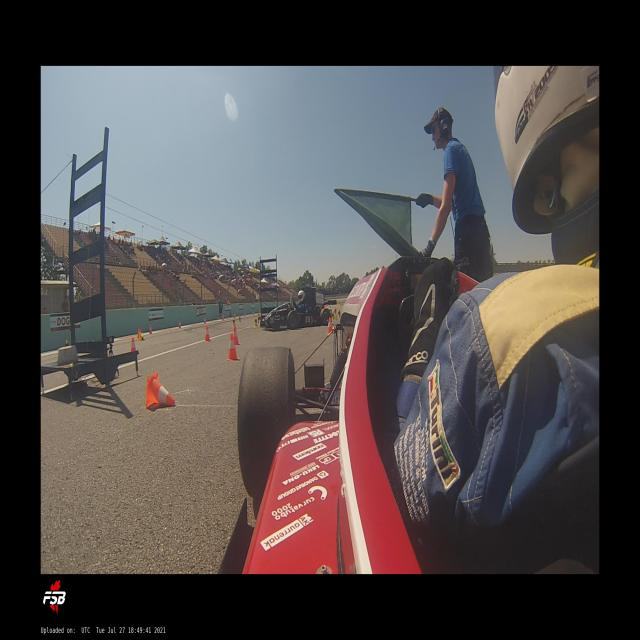orange_cone: (145, 374, 175, 408), (226, 335, 240, 361), (233, 327, 240, 345), (205, 326, 211, 342), (327, 317, 332, 333), (130, 338, 136, 351), (138, 328, 140, 338), (150, 325, 152, 334), (179, 321, 181, 328), (204, 318, 206, 324)
yellow_cone: (139, 332, 145, 340), (254, 318, 258, 328), (232, 318, 235, 326), (338, 311, 340, 318), (239, 316, 241, 322)
